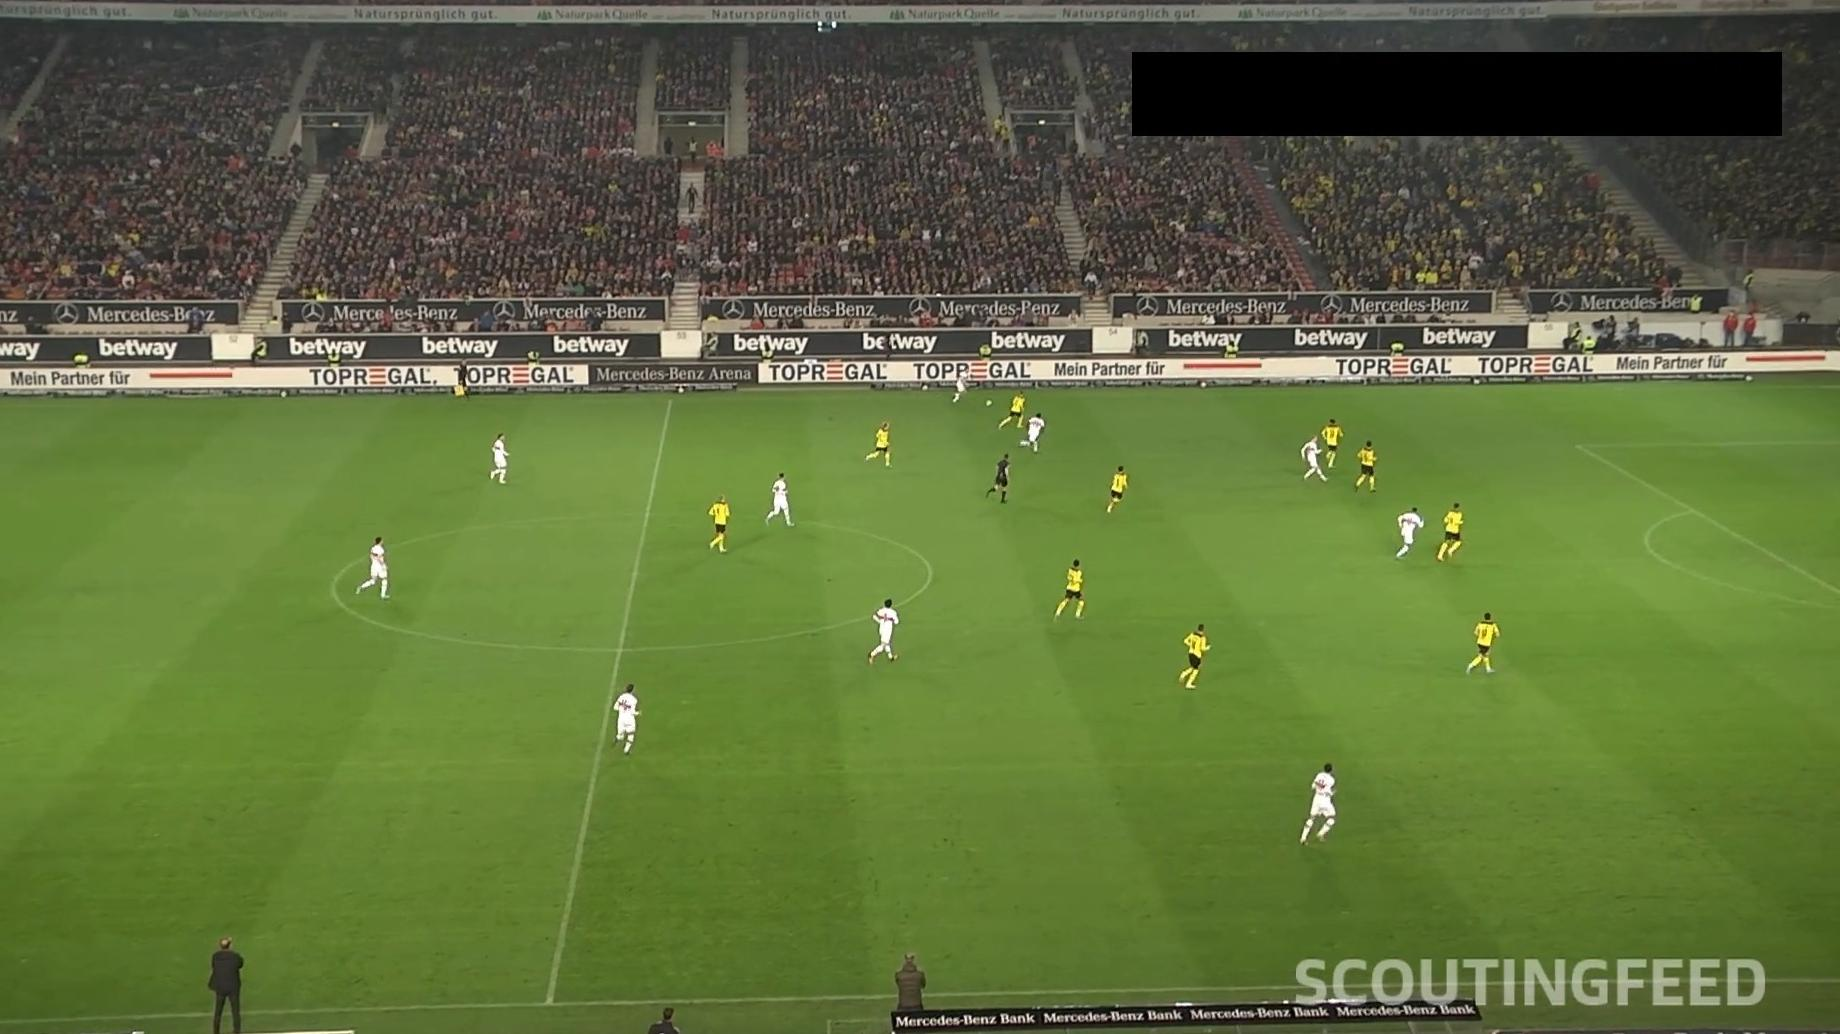ball: (984, 398, 993, 407)
